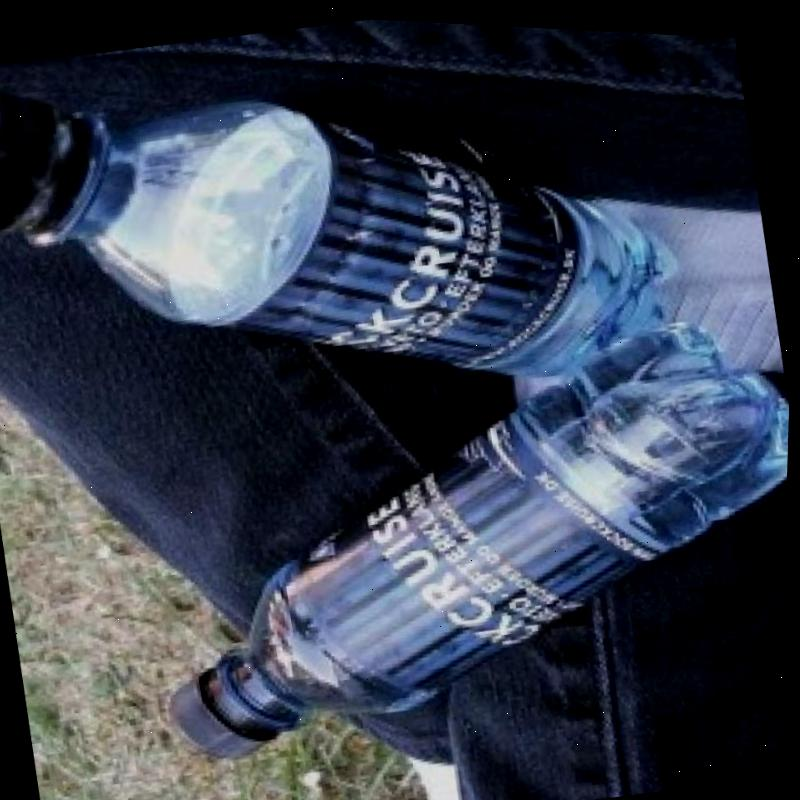botella: (115, 274, 794, 792), (0, 0, 703, 472)
